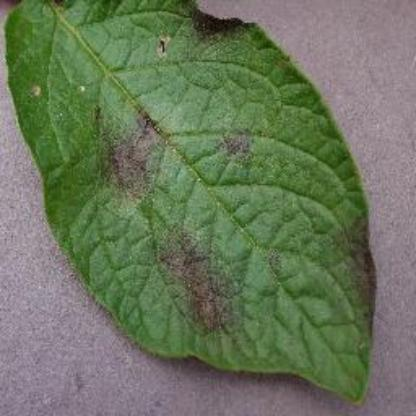Late-Blight: (3, 0, 410, 400)
